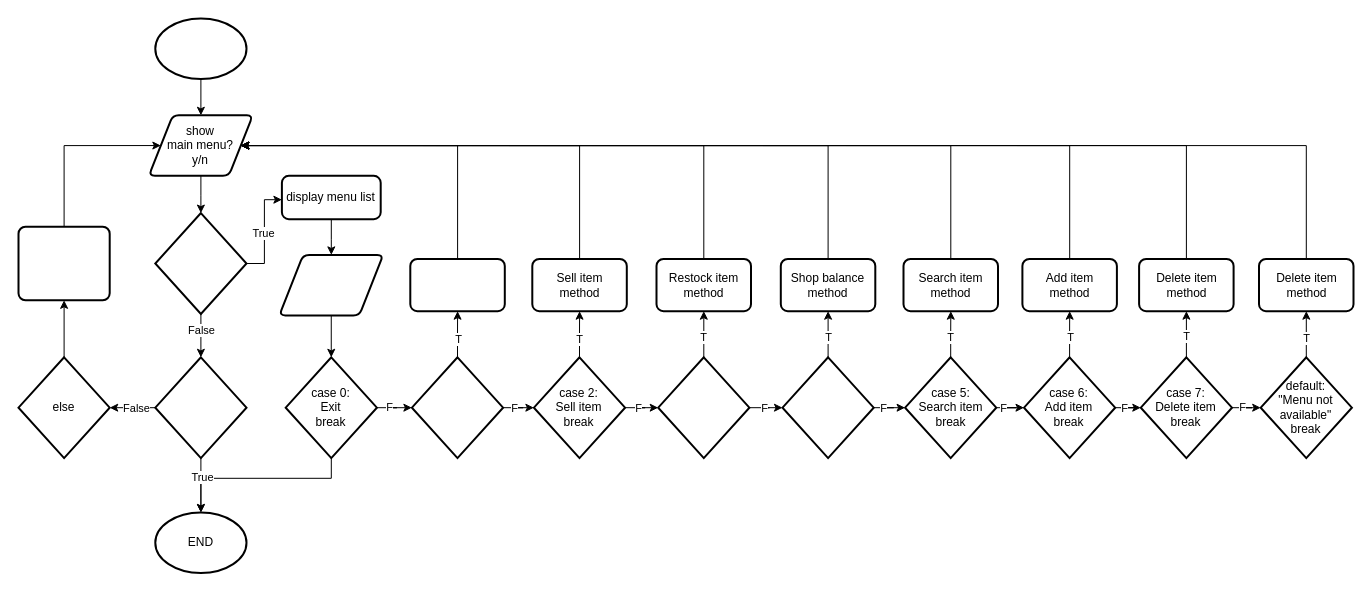
The diagram is 1371 pixels wide and 591 high, and some of its shapes have lost their labels. The shapes that lost their labels are listed below. From the top down, each one's centre as x and y in pixels, then its label:
At point 200,48: "START".
At point 63,263: "invalid input, return to show menu confirmation".
At point 200,263: "if confirmation == y".
At point 331,284: "input menu option (integer)".
At point 457,285: "View available items method".
At point 200,407: "else if confirmation == n".
At point 457,407: "case 1: View items break".
At point 703,407: "case 3: Restock items break".
At point 827,407: "case 4: Shop balance break".
